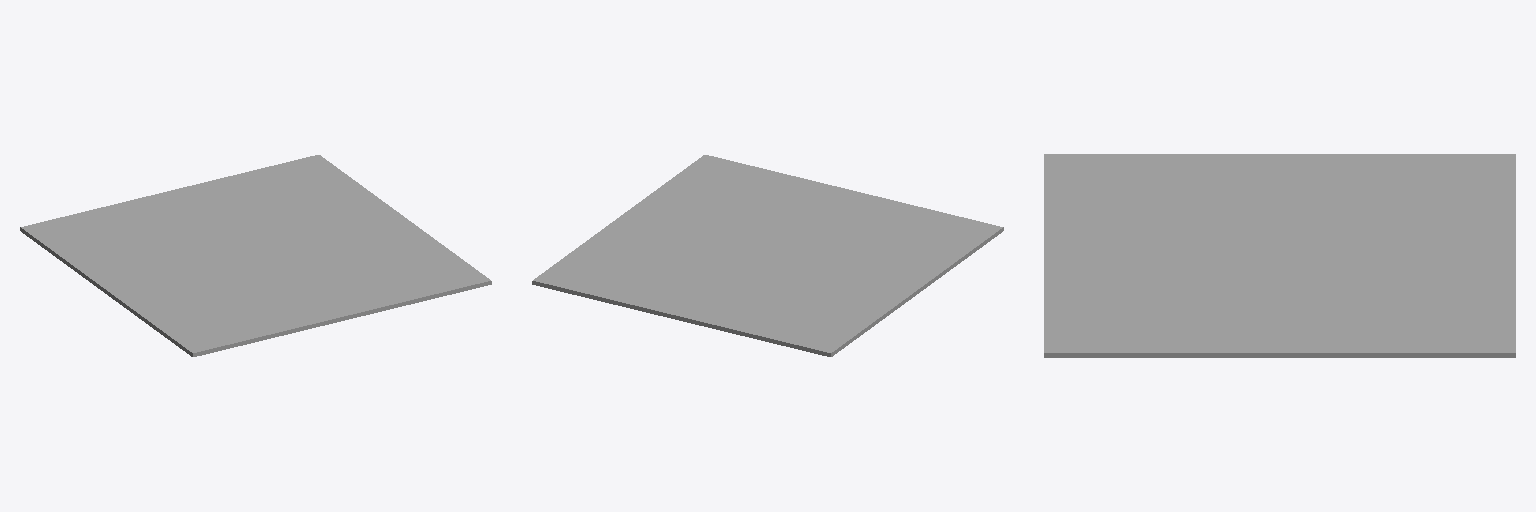
robot.urdf — table:
<?xml version="1.0"?>
<!-- Generated by make_models.py; extents match cuTAMP's ENTITIES cuboid. -->
<robot name="table">
  <link name="base_link">
    <inertial>
      <origin xyz="0 0 0"/>
      <mass value="1.0"/>
      <inertia ixx="0.18753333333333333" ixy="0" ixz="0" iyy="0.18753333333333333" iyz="0" izz="0.375"/>
    </inertial>
    <visual>
      <origin xyz="0 0 0"/>
      <geometry><box size="1.5 1.5 0.02"/></geometry>
      <material name="grey"><color rgba="0.7 0.7 0.7 1"/></material>
    </visual>
    <collision>
      <origin xyz="0 0 0"/>
      <geometry><box size="1.5 1.5 0.02"/></geometry>
    </collision>
  </link>
</robot>

--- Render facts (derived) ---
Views: 3 orthographic renders of the robot side by side, from view 1: azimuth 30°, elevation 25°; view 2: azimuth 150°, elevation 25°; view 3: azimuth 270°, elevation 25°.
Model table with 1 links and 0 joints (none), rooted at base_link, posed all joints at 0.
Links seen in each view (by area): view 1: base_link; view 2: base_link; view 3: base_link.
Boxes of the visible links, left/top/right/bottom form: base_link: left=20, top=155, right=491, bottom=356; base_link: left=532, top=155, right=1003, bottom=356; base_link: left=1044, top=154, right=1515, bottom=357.
Bounding box of the posed robot: 1.5 × 1.5 × 0.02 m (x, y, z).
Geometry: primitives only (box / cylinder / sphere), no mesh files.
